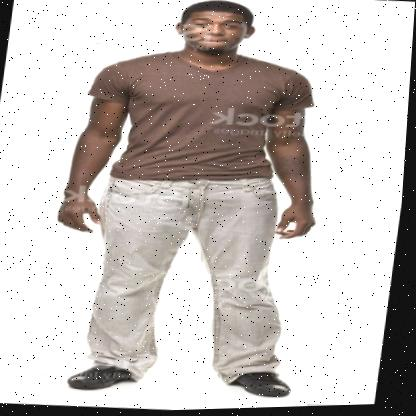person: (51, 0, 341, 391)
